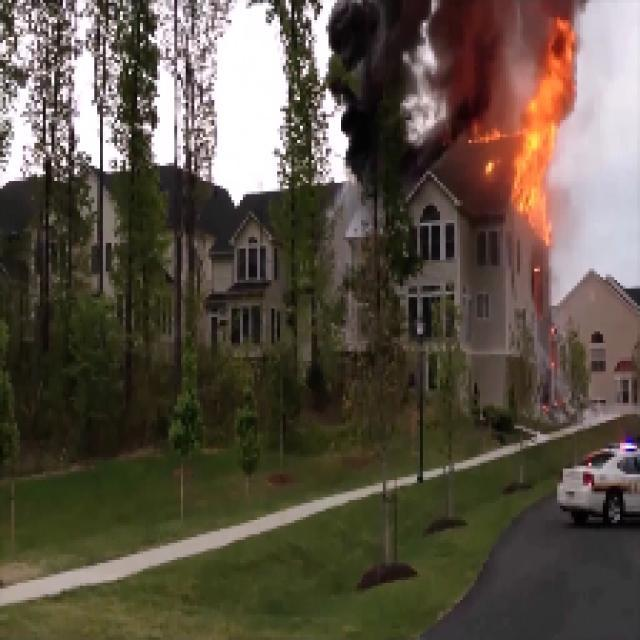Fire: (498, 22, 575, 237)
Smoke: (334, 3, 476, 98)
